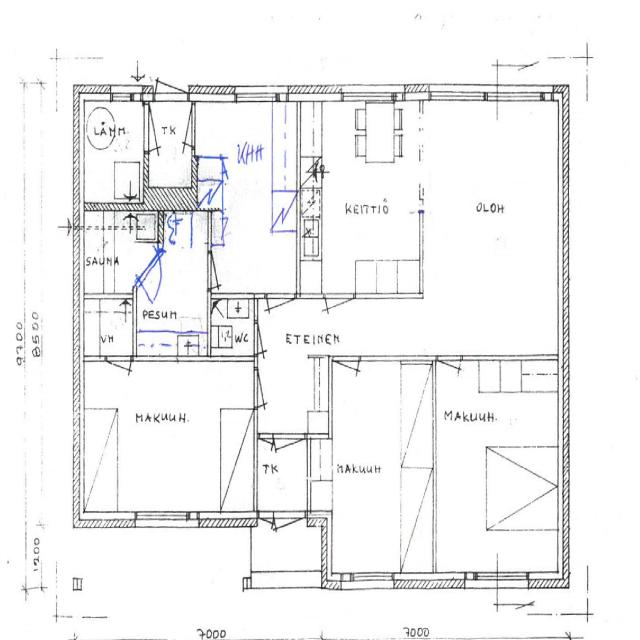door: (137, 251, 178, 311), (155, 39, 187, 101), (274, 511, 305, 573), (273, 432, 305, 485), (144, 105, 180, 152), (163, 104, 196, 148), (326, 292, 354, 340), (266, 292, 294, 340), (253, 368, 283, 406), (334, 355, 358, 398), (207, 253, 236, 288), (107, 355, 131, 396), (438, 355, 461, 395), (253, 322, 279, 354), (259, 512, 273, 548), (259, 432, 273, 458)
